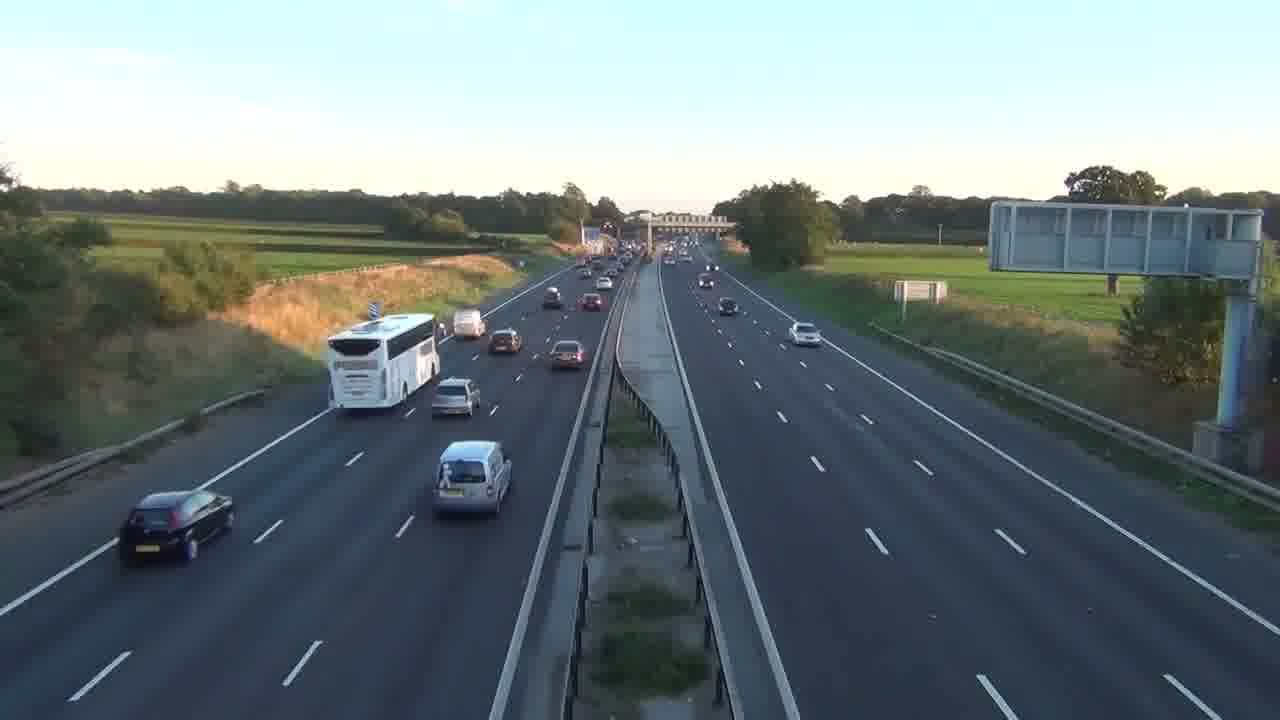bus: (324, 311, 440, 412)
car: (117, 489, 236, 570), (431, 439, 514, 517), (432, 377, 481, 418), (548, 338, 589, 371), (489, 326, 522, 354), (790, 321, 822, 346), (718, 297, 738, 315)
truck: (117, 489, 236, 570)
